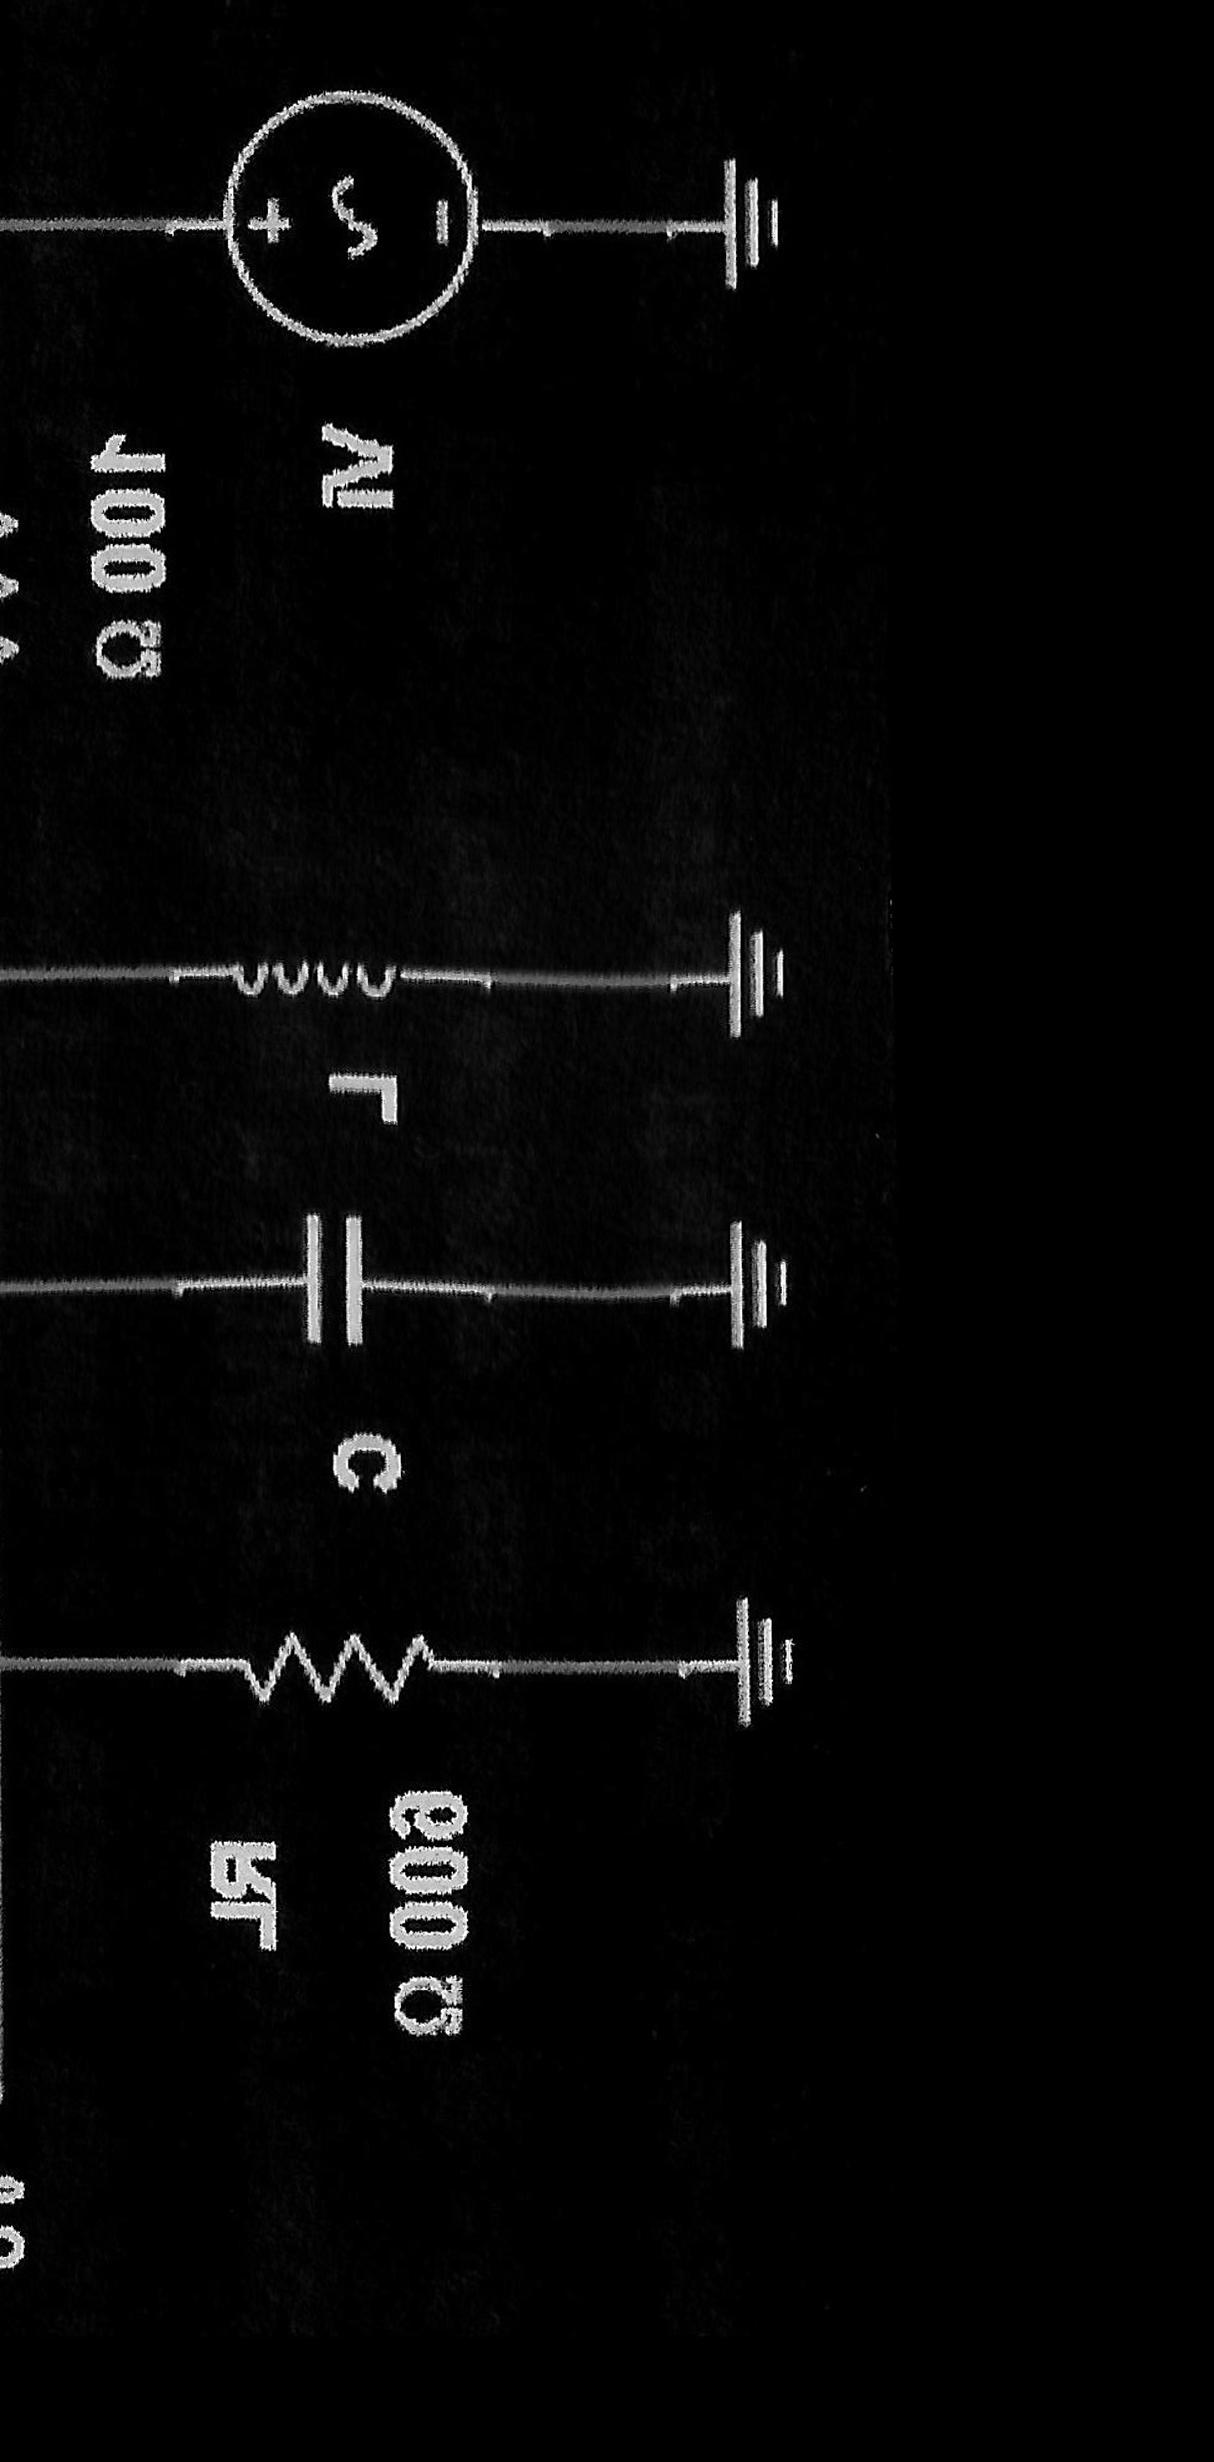Battery: (126, 35, 580, 341)
